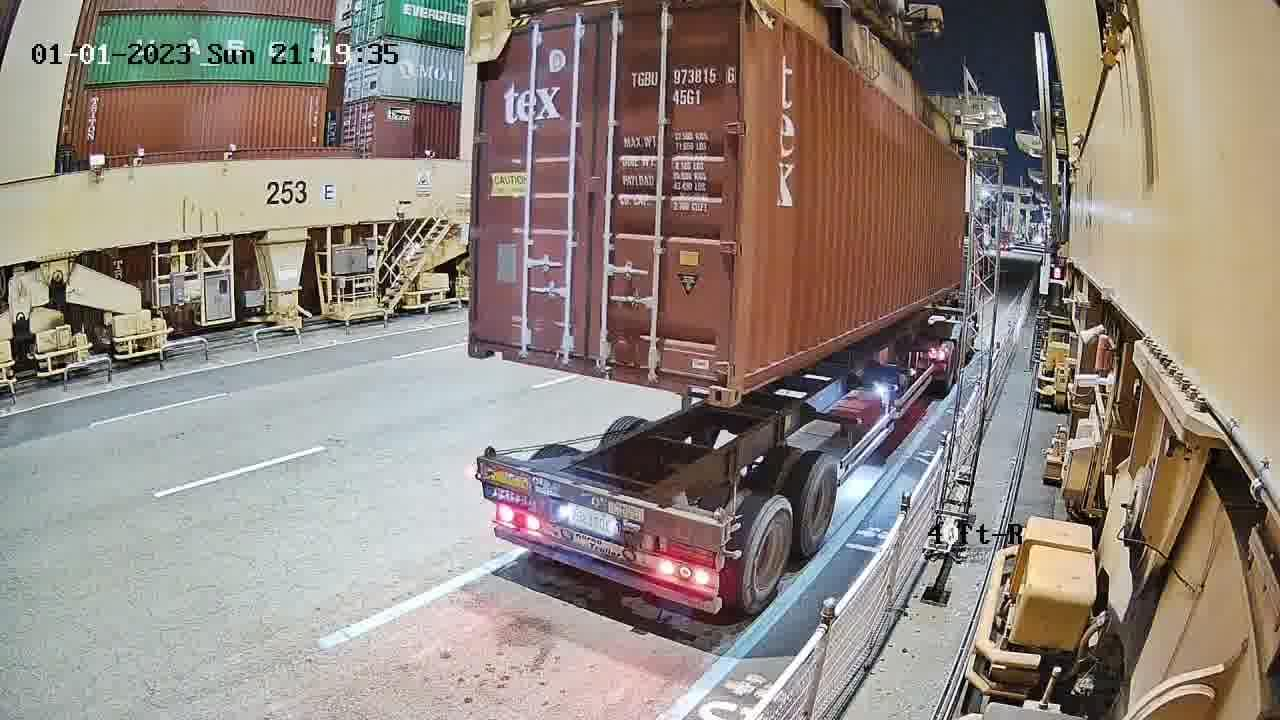Chassis: (477, 457, 727, 552)
Cone: (707, 506, 731, 540), (478, 442, 494, 475)
Hole_L: (728, 340, 766, 406), (466, 315, 506, 359)
Hole_R: (679, 347, 731, 410)
Tire: (741, 500, 794, 610), (795, 454, 838, 558)
